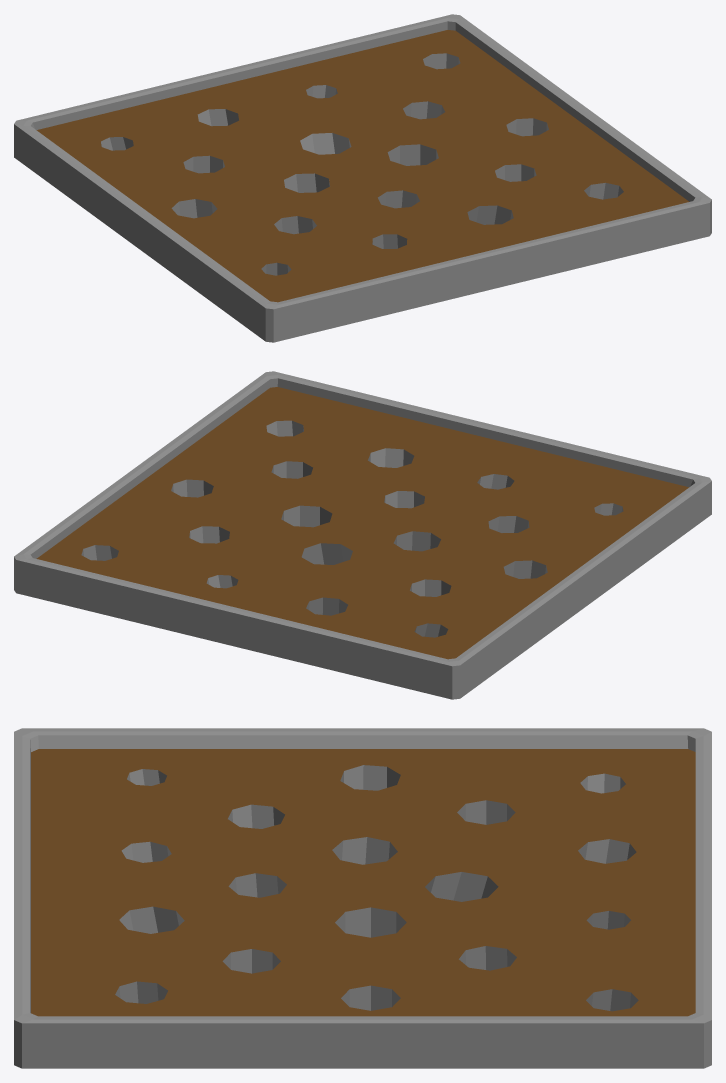
File: Trap2_Alt.fbx
3 renders of one model, top to bottom at view 1: azimuth 30°, elevation 25°; view 2: azimuth 150°, elevation 25°; view 3: azimuth 270°, elevation 25°, orthographic. The views are drawn at different scales.
Parts seen in each view (by area): view 1: Cube.003; view 2: Cube.003; view 3: Cube.003.
Part boxes in pixels (x1=…): Cube.003: x1=14, y1=14, x2=711, y2=342; Cube.003: x1=14, y1=371, x2=711, y2=699; Cube.003: x1=14, y1=728, x2=711, y2=1068.
Bounding box in the file's own units: 1 × 0.0732 × 1.
